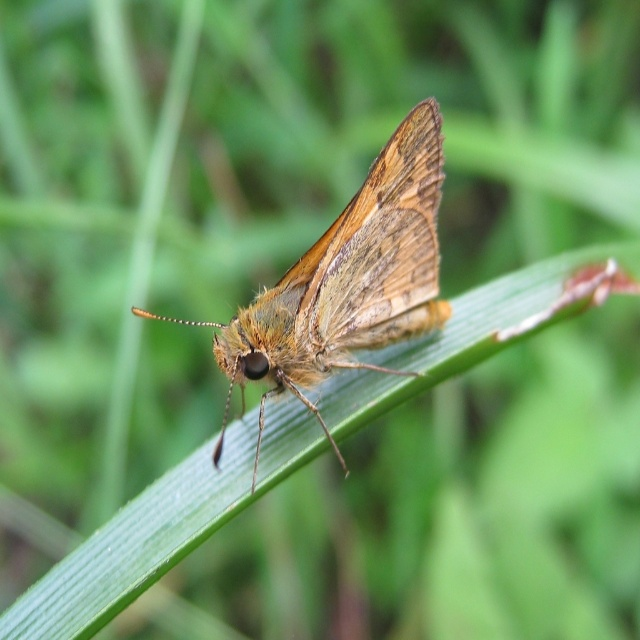Butterfly: (227, 102, 458, 477)
